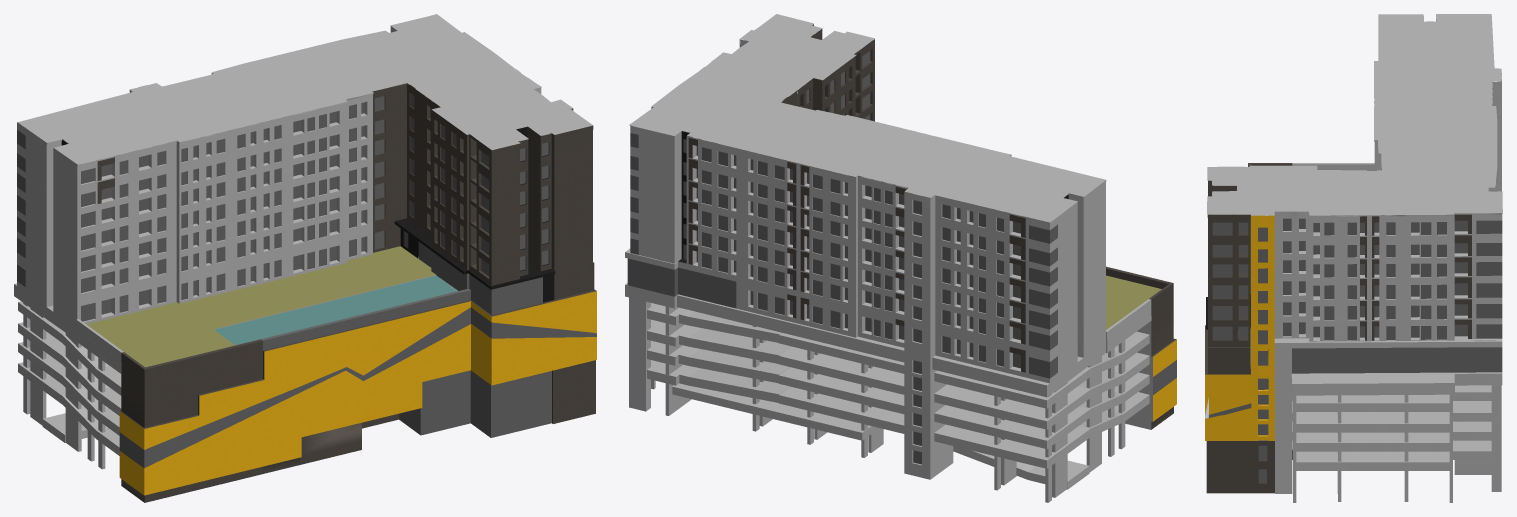
File: final_cut1-7.glb
The picture shows the model from 3 angles, left to right: view 1: azimuth 30°, elevation 25°; view 2: azimuth 150°, elevation 25°; view 3: azimuth 270°, elevation 25°; orthographic projection. The views are drawn at different scales.
Parts seen in each view (by area): view 1: cut:pPlane3 (×9); view 2: cut:pPlane3 (×6); view 3: cut:pPlane3 (×6).
Part boxes in pixels (bbox=[...]): cut:pPlane3 (×9): bbox=[14, 14, 596, 502]; cut:pPlane3 (×6): bbox=[625, 14, 1176, 502]; cut:pPlane3 (×6): bbox=[1205, 14, 1502, 502].
Size of the model in its own units: 4.69 by 2.87 by 2.77.
Materials: 11 (11 with a texture image).
